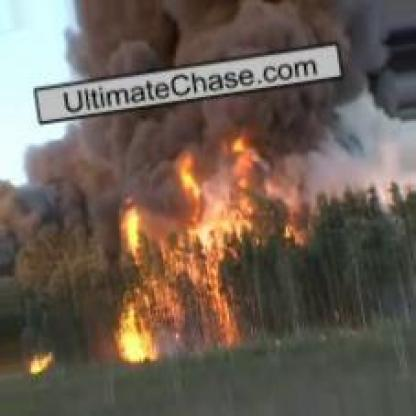fire: (114, 134, 322, 364), (18, 348, 60, 378)
smoke: (74, 0, 406, 125)
